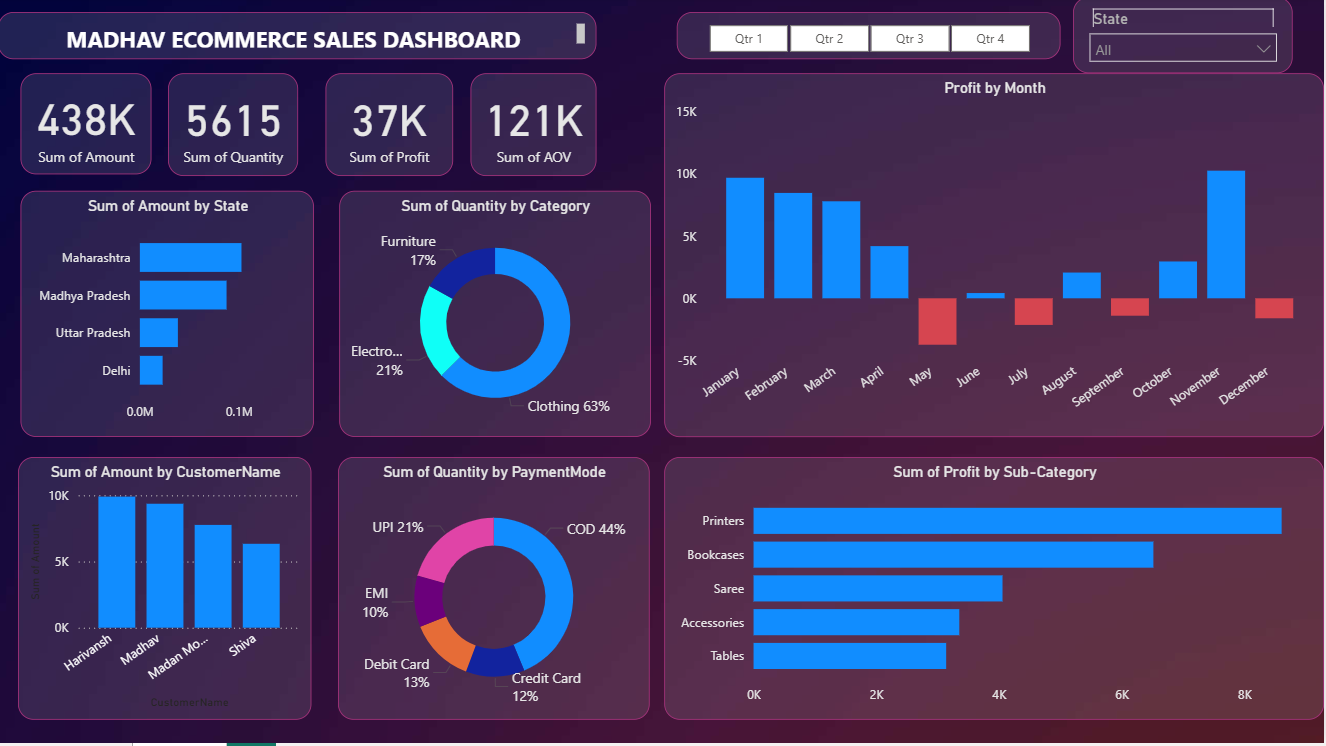

The page's visual inventory and layout, read from the dashboard file:
{"tool":"powerbi","page":{"name":"Page 1","canvas":[1280,720],"ordinal":0},"visuals":[{"type":"textbox","box":[0,14.5,577.9,45.8],"z":0},{"type":"columnChart","title":"Profit by Month","fields":{"Y":["Details.Profit"],"Category":["Orders (1).Order Date.Variation.Date Hierarchy.Month"]},"box":[643,73.6,637,351.1],"z":1000},{"type":"barChart","fields":{"Category":["Details.Sub-Category"],"Y":["Details.Profit"]},"box":[643,444,637,253.4],"z":2000},{"type":"donutChart","fields":{"Y":["Details.Quantity"],"Series":["Details.PaymentMode"]},"box":[328.2,444,300.4,253.4],"z":3000},{"type":"donutChart","fields":{"Category":["Details.Category"],"Y":["Details.Quantity"]},"box":[329.4,187,300.4,237.7],"z":4000},{"type":"card","fields":{"Values":["Details.Amount"]},"box":[21.7,73.6,126.7,97.7],"z":5000},{"type":"card","fields":{"Values":["Details.Quantity"]},"box":[164.1,73.6,125.5,98.9],"z":6000},{"type":"card","fields":{"Values":["Details.Profit"]},"box":[316.1,73.6,123.1,98.9],"z":7000},{"type":"card","fields":{"Values":["Details.AOV"]},"box":[456,73.6,121.9,98.9],"z":8000},{"type":"barChart","fields":{"Category":["Orders (1).State"],"Y":["Details.Amount"]},"box":[21.7,187,283.5,237.7],"z":9000},{"type":"columnChart","fields":{"Category":["Orders (1).CustomerName"],"Y":["Details.Amount"]},"box":[19.3,444,283.5,253.4],"z":10000},{"type":"slicer","fields":{"Values":["Orders (1).Order Date.Variation.Date Hierarchy.Quarter"]},"box":[655.1,14.5,370.4,45.8],"z":10001},{"type":"slicer","fields":{"Values":["Orders (1).State"]},"box":[1037.5,0,212.3,73.6],"z":10002}]}

Visuals, with their boxes in screenshot pixels (x1, y1, x2, y2), scaled from the page's 1280x720 canvas onto the 1326x746 screenshot:
textbox: left=0, top=15, right=599, bottom=62
"Profit by Month" columnChart: left=666, top=76, right=1325, bottom=440
barChart - Details.Sub-Category x Details.Profit: left=666, top=460, right=1325, bottom=723
donutChart - Details.Quantity x Details.PaymentMode: left=340, top=460, right=651, bottom=723
donutChart - Details.Category x Details.Quantity: left=341, top=194, right=652, bottom=440
card - Details.Amount: left=22, top=76, right=154, bottom=177
card - Details.Quantity: left=170, top=76, right=300, bottom=179
card - Details.Profit: left=327, top=76, right=455, bottom=179
card - Details.AOV: left=472, top=76, right=599, bottom=179
barChart - Orders (1).State x Details.Amount: left=22, top=194, right=316, bottom=440
columnChart - Orders (1).CustomerName x Details.Amount: left=20, top=460, right=314, bottom=723
slicer - Orders (1).Order Date.Variation.Date Hierarchy.Quarter: left=679, top=15, right=1062, bottom=62
slicer - Orders (1).State: left=1075, top=0, right=1295, bottom=76
